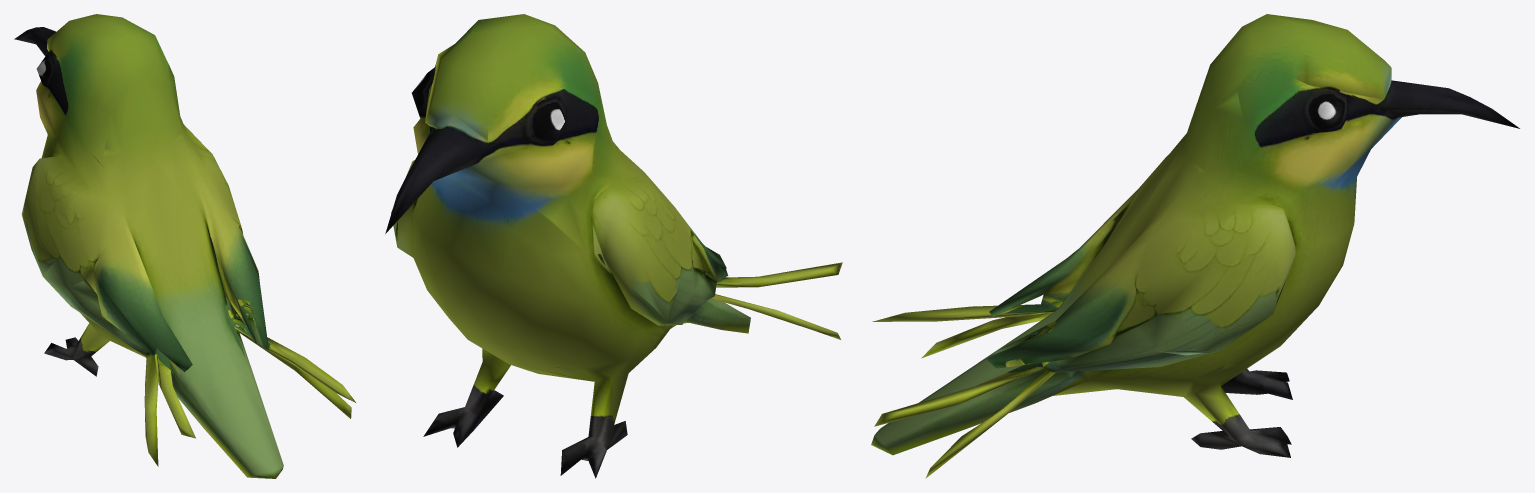
The model's file is toad-bee-eater.glb.
3 views of the same model, side by side, from view 1: azimuth 30°, elevation 25°; view 2: azimuth 150°, elevation 25°; view 3: azimuth 270°, elevation 25° (orthographic). The views are drawn at different scales.
Parts seen in each view (by area): view 1: lo; view 2: lo; view 3: lo.
Boxes of the visible parts, left/top/right/bottom form: lo: left=14, top=14, right=355, bottom=478; lo: left=385, top=14, right=842, bottom=478; lo: left=871, top=14, right=1519, bottom=478.
Size of the model in its own units: 0.0375 by 0.06 by 0.0838.
1 material, 1 textured.
